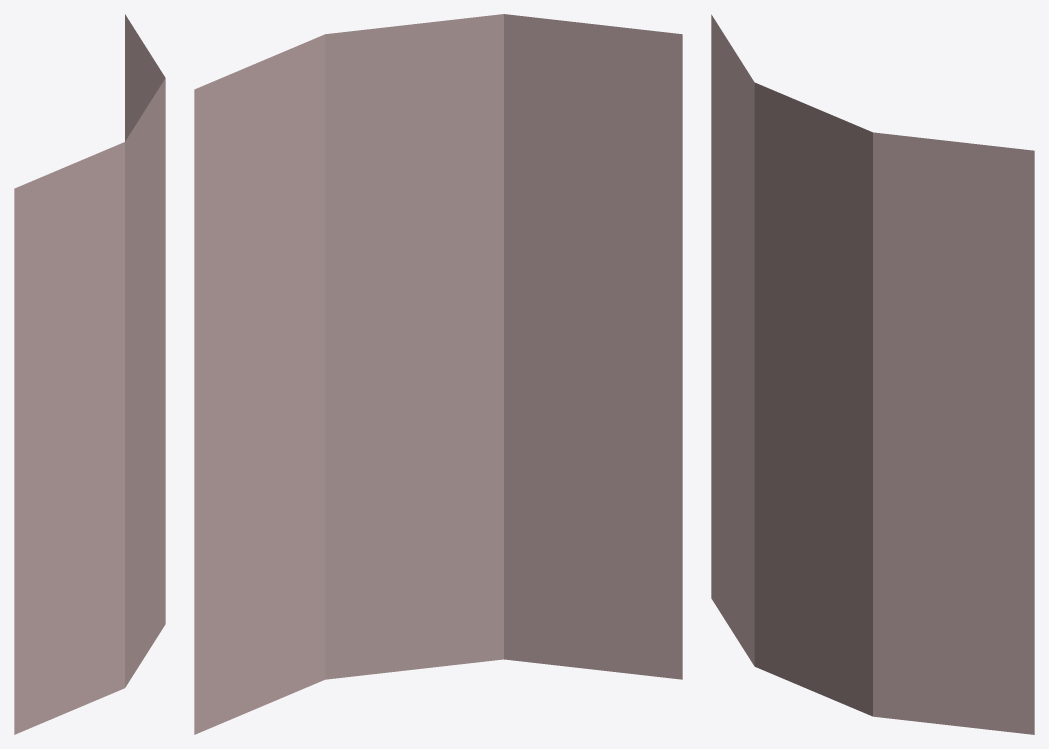
File: castle_tower_medium_plain.fbx
The picture shows the model from 3 angles, left to right: view 1: azimuth 30°, elevation 25°; view 2: azimuth 150°, elevation 25°; view 3: azimuth 270°, elevation 25°; orthographic projection. The views are drawn at different scales.
Parts seen in each view (by area): view 1: castle_tower_medium_plain; view 2: castle_tower_medium_plain; view 3: castle_tower_medium_plain.
Part boxes in pixels (bbox=[...]): castle_tower_medium_plain: bbox=[14, 14, 165, 734]; castle_tower_medium_plain: bbox=[194, 14, 682, 734]; castle_tower_medium_plain: bbox=[711, 14, 1034, 734].
Bounding box in the file's own units: 4.01 × 8 × 4.01.
